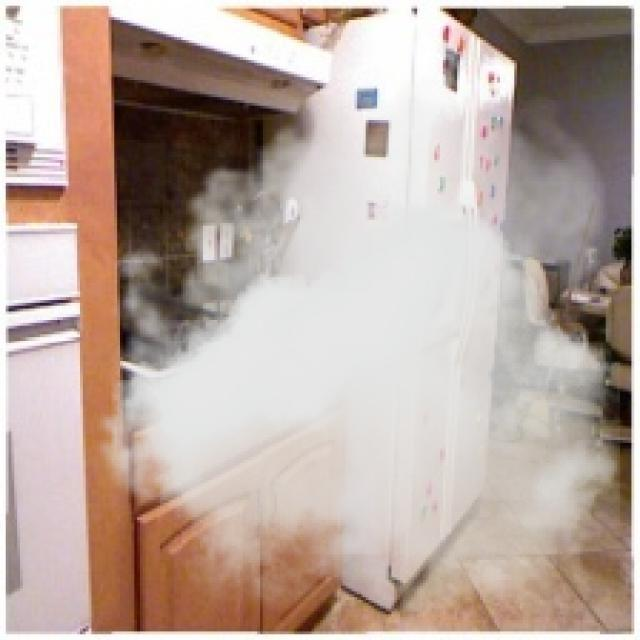Smoke: (80, 57, 620, 612)
